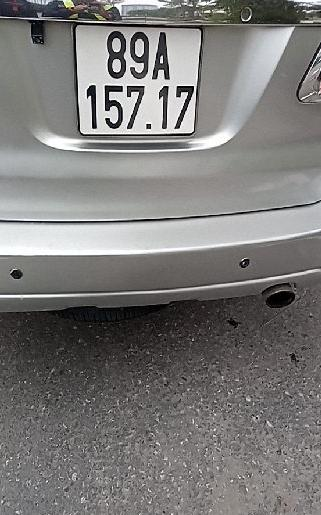Plate-iWeP: (73, 24, 205, 140)
